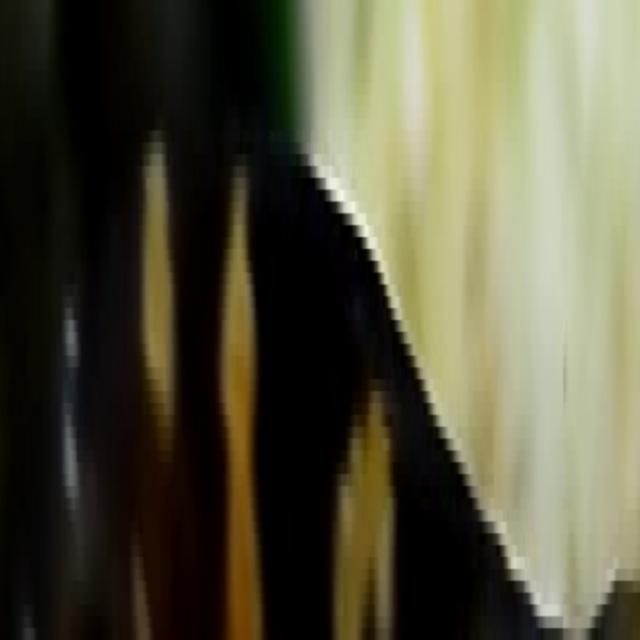fish: (1, 12, 640, 640)
